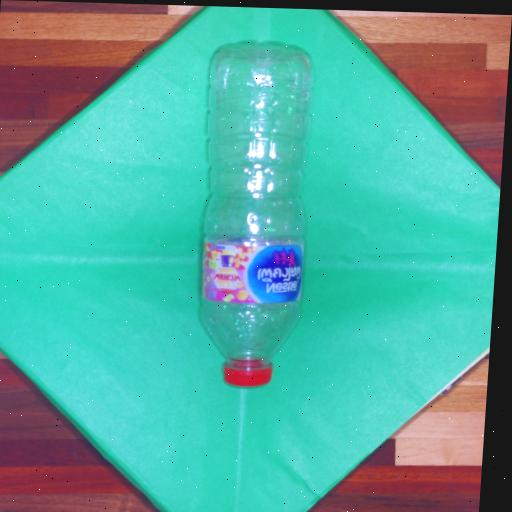bottle: (175, 24, 332, 410)
